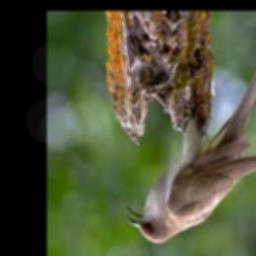Cuckoo: (125, 13, 256, 243)
